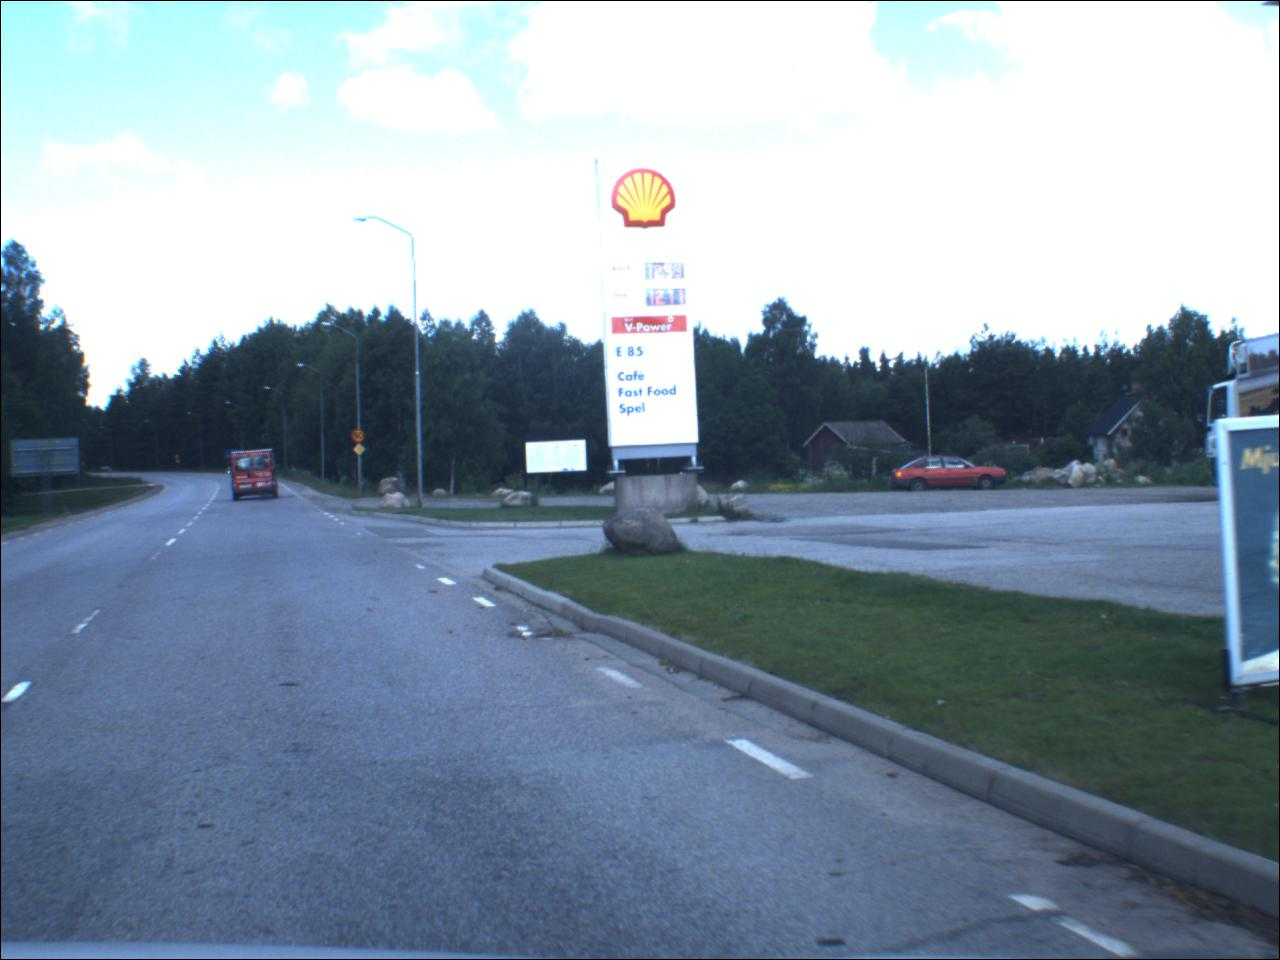50_SIGN: (352, 430, 368, 445)
PRIORITY_ROAD: (355, 445, 370, 459)
